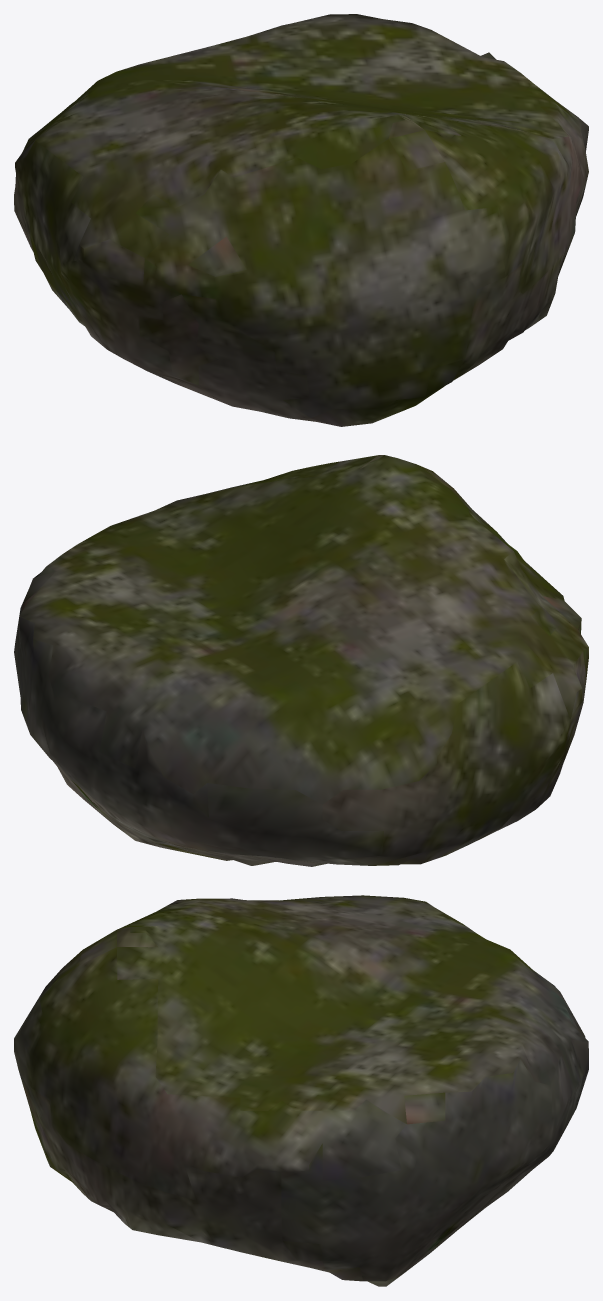
File: rock_moss2.glb
3 renders of one model, top to bottom at view 1: azimuth 30°, elevation 25°; view 2: azimuth 150°, elevation 25°; view 3: azimuth 270°, elevation 25°, orthographic. The views are drawn at different scales.
Visible parts, largest first — view 1: A_Set.001; view 2: A_Set.001; view 3: A_Set.001.
Part boxes in pixels (x1=…): A_Set.001: x1=14, y1=14, x2=588, y2=426; A_Set.001: x1=14, y1=455, x2=588, y2=866; A_Set.001: x1=14, y1=895, x2=588, y2=1286.
Bounding box in the file's own units: 5.6 × 3.23 × 5.59.
1 material, 1 textured.
